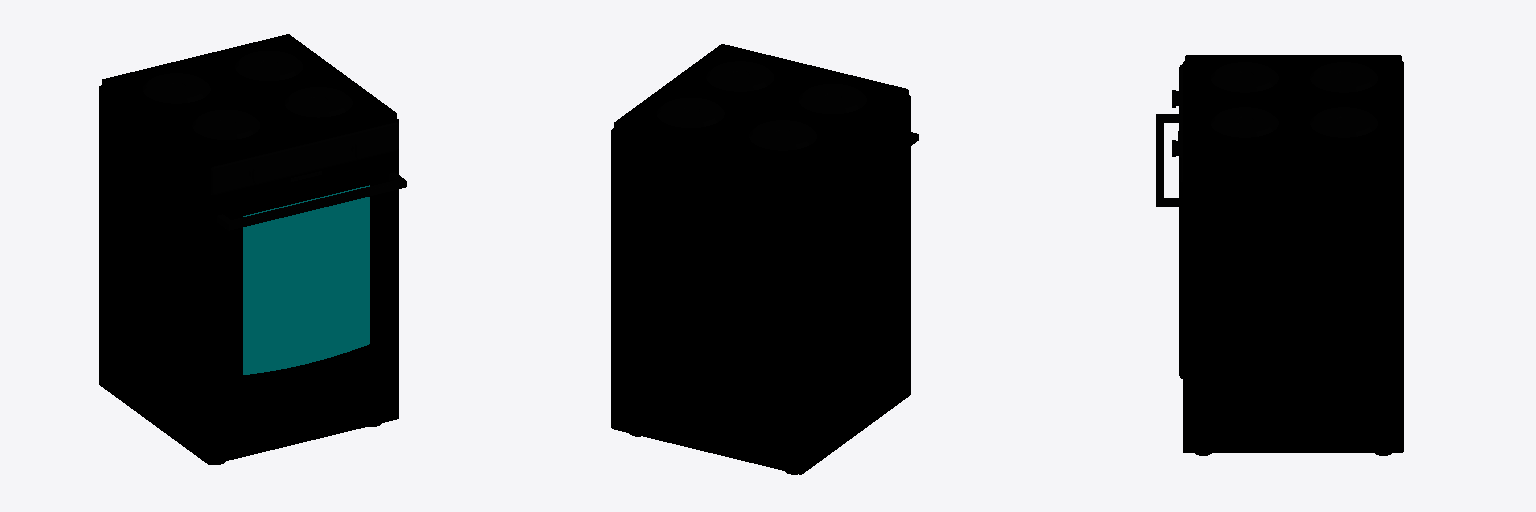
Rendered from ESTUFAESTA.obj.
3 views of the same model, side by side, from view 1: azimuth 30°, elevation 25°; view 2: azimuth 150°, elevation 25°; view 3: azimuth 270°, elevation 25° (orthographic).
Parts seen in each view (by area): view 1: estufa; view 2: estufa; view 3: estufa.
Boxes of the visible parts, x1,y1,x2,y2 form: estufa: [99, 34, 406, 464]; estufa: [611, 44, 918, 474]; estufa: [1156, 55, 1403, 455].
Bounding box in the file's own units: 62.19 × 98.26 × 69.71.